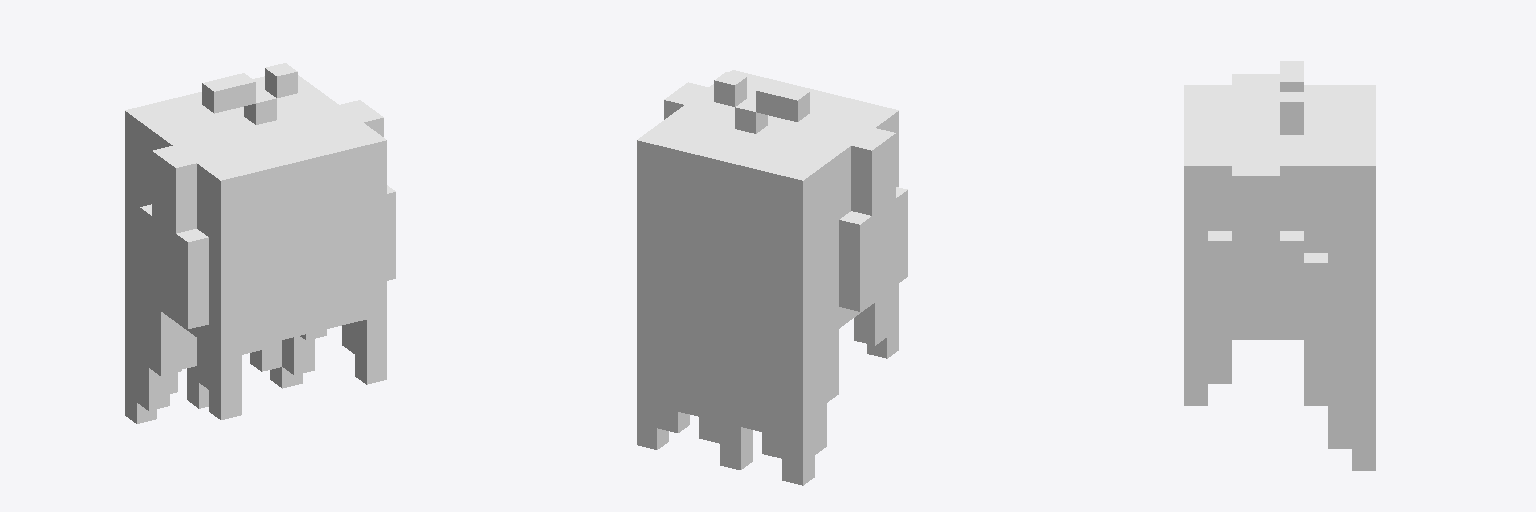
Rendered from maki_head_01.obj.
The picture shows the model from 3 angles: view 1: azimuth 30°, elevation 25°; view 2: azimuth 150°, elevation 25°; view 3: azimuth 270°, elevation 25°; orthographic projection.
Bounding box in the file's own units: 10 × 16 × 8.